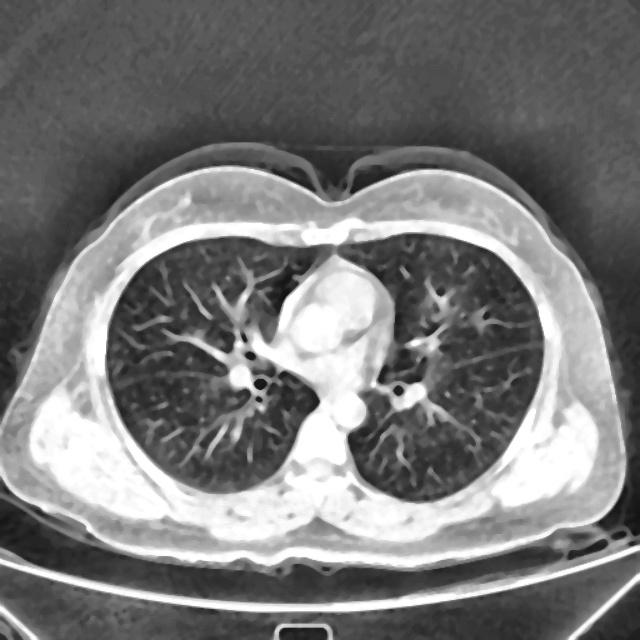covid: (1, 141, 629, 577)
